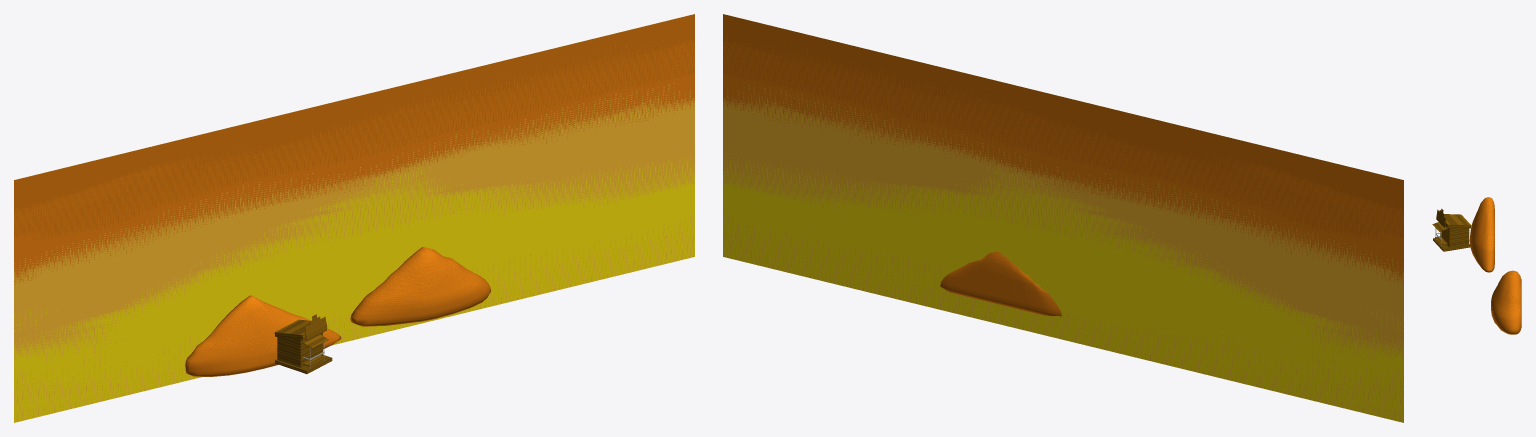
The model's file is Background.fbx.
3 renders of one model, left to right at view 1: azimuth 30°, elevation 25°; view 2: azimuth 150°, elevation 25°; view 3: azimuth 270°, elevation 25°, orthographic. The views are drawn at different scales.
Parts seen in each view (by area): view 1: pPlane2, pCube5, pCube4, pCube6; view 2: pPlane2, pCube5; view 3: pCube5, pCube4, pCube6, pCube24, pCube17, pCube25.
Boxes of the visible parts, x1,y1,x2,y2 form: pPlane2: [14, 14, 694, 422]; pCube5: [350, 247, 490, 326]; pCube4: [185, 295, 341, 376]; pCube6: [277, 333, 322, 367]; pPlane2: [723, 14, 1403, 422]; pCube5: [940, 251, 1061, 316]; pCube5: [1491, 270, 1521, 334]; pCube4: [1469, 197, 1494, 272]; pCube6: [1440, 227, 1469, 247]; pCube24: [1444, 214, 1471, 228]; pCube17: [1433, 238, 1470, 251]; pCube25: [1436, 208, 1446, 228].
Bounding box in the file's own units: 8509 × 2900 × 1358.
Materials: 3 (2 with a texture image).
